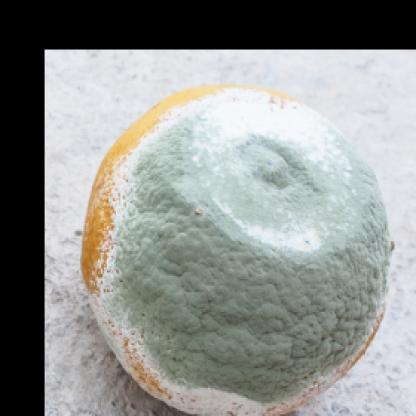rotten: (85, 80, 394, 416)
